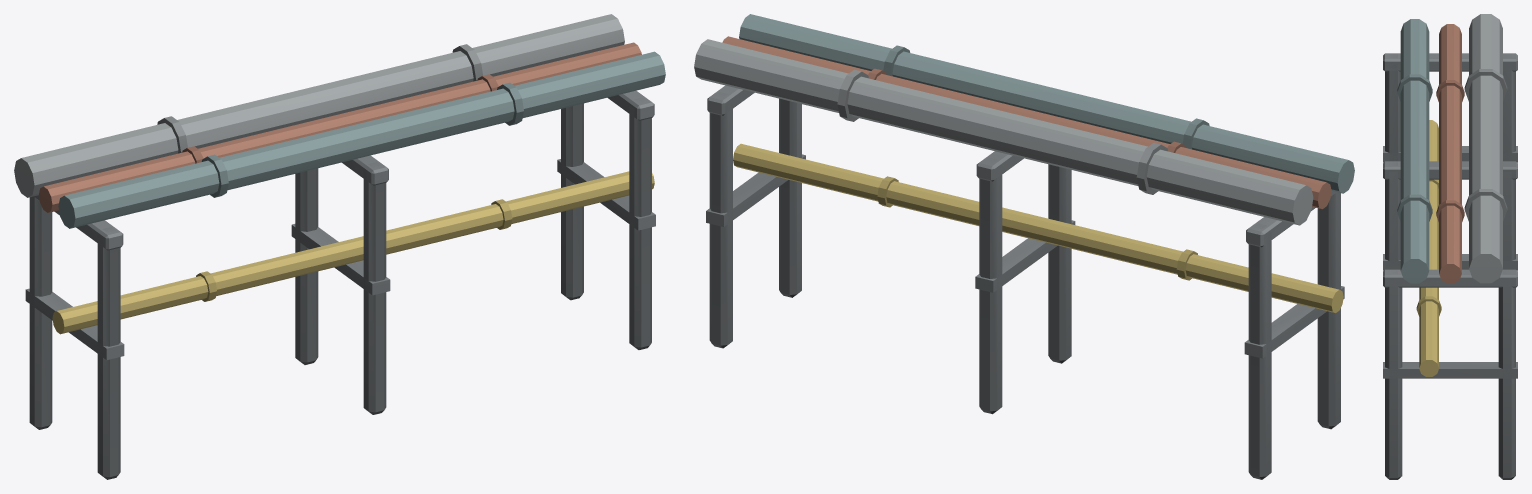
The model's file is mil_pipe_rack.glb.
3 renders of one model, left to right at view 1: azimuth 30°, elevation 25°; view 2: azimuth 150°, elevation 25°; view 3: azimuth 270°, elevation 25°, orthographic. The views are drawn at different scales.
Visible parts, largest first — view 1: mil_pipe_rack; view 2: mil_pipe_rack; view 3: mil_pipe_rack.
Part boxes in pixels (bbox=[...]): mil_pipe_rack: bbox=[14, 14, 665, 479]; mil_pipe_rack: bbox=[694, 14, 1354, 479]; mil_pipe_rack: bbox=[1383, 14, 1517, 479].
Size of the model in its own units: 8 by 3.73 by 1.9.
